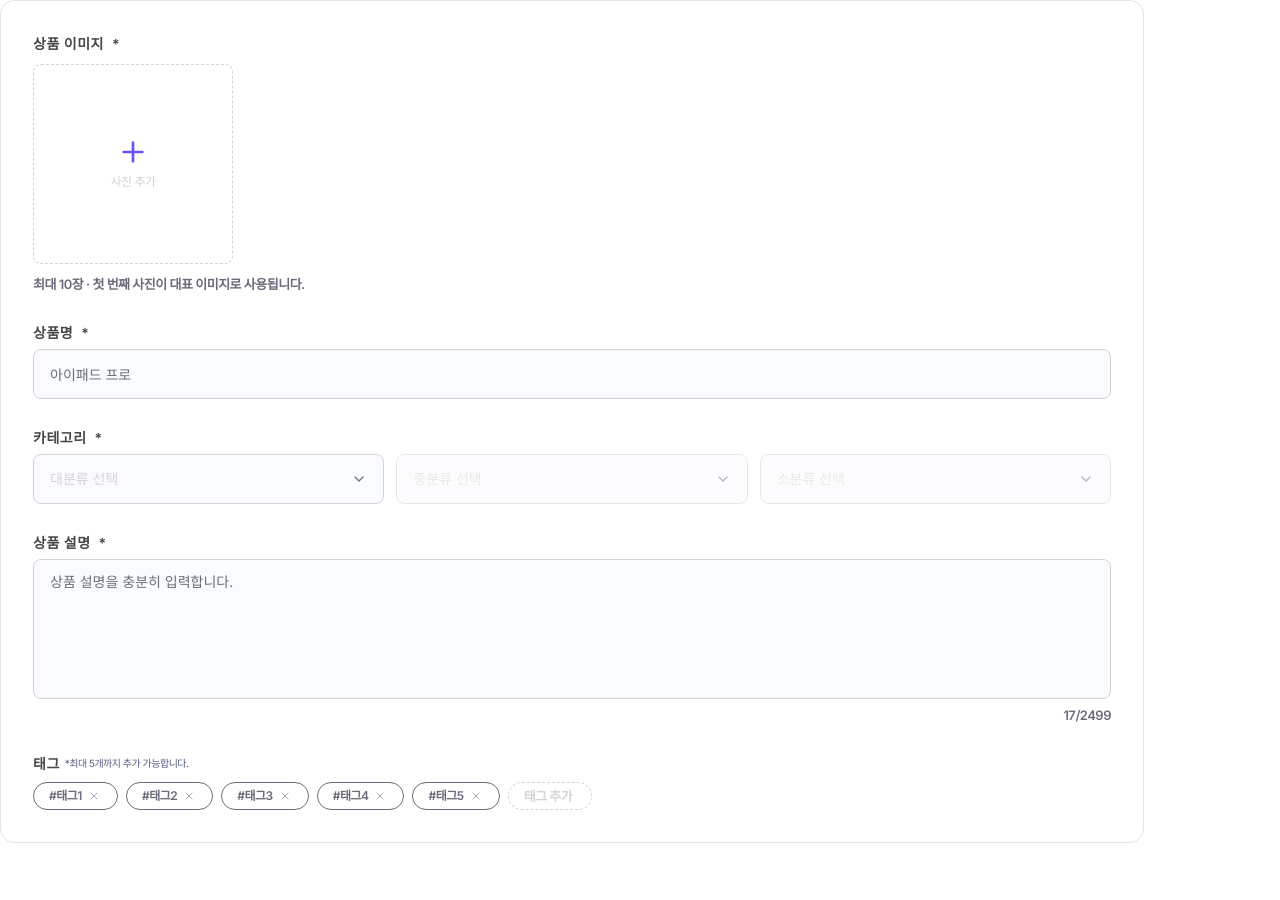
Test: DirectRegisterInfoStep › shows an error instead of adding a sixth tag
Step 1. Type "추가 태그" into the field labelled "태그 추가" → point(550, 796), box x1=524 y1=786 x2=576 y2=806
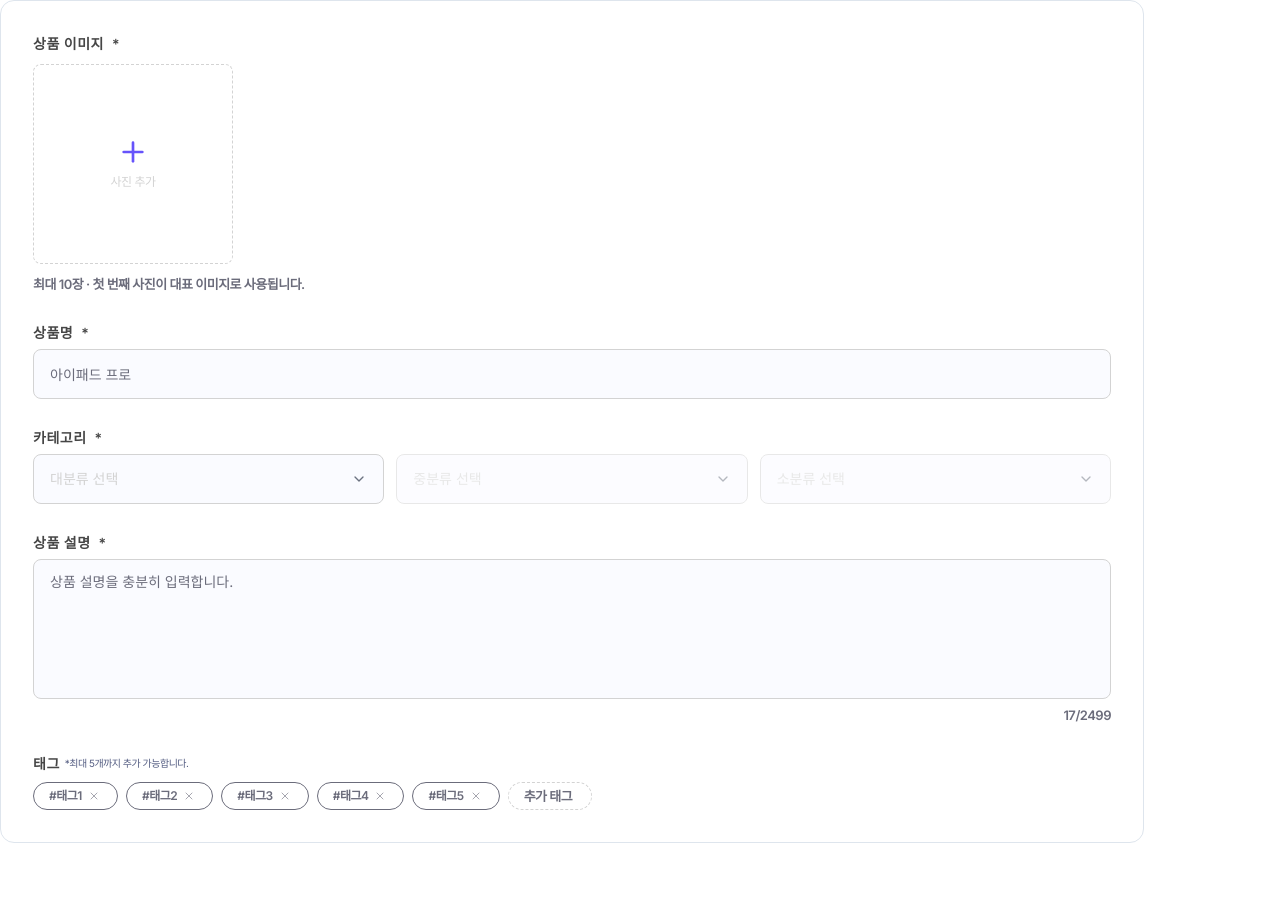
Step 2. Press Enter
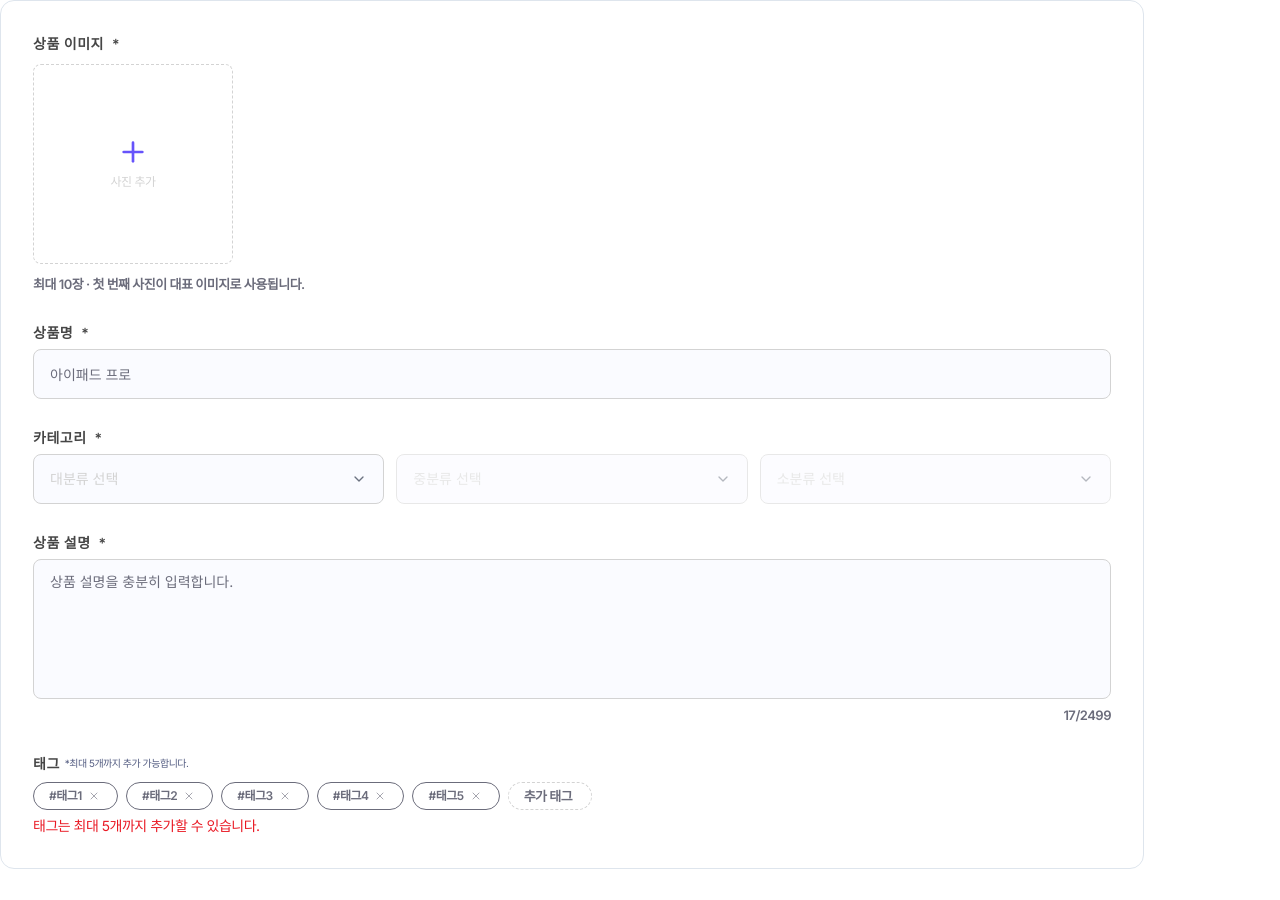
Now the message reads "태그는 최대 5개까지 추가할 수 있습니다.", box x1=33 y1=817 x2=260 y2=834
